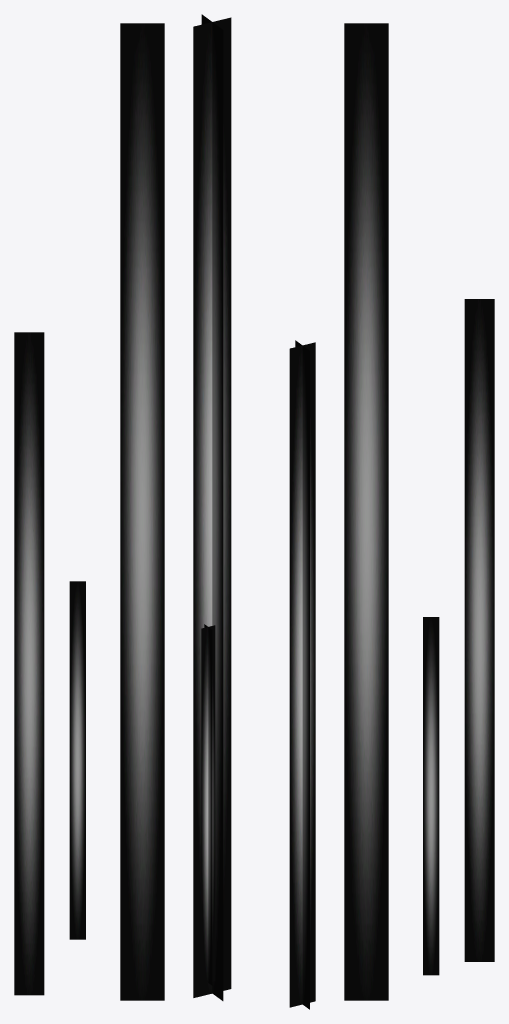
File: vfx_kurp_0210.dae
3 views of the same model, side by side, from view 1: azimuth 90°, elevation 25°; view 2: azimuth 210°, elevation 25°; view 3: azimuth 270°, elevation 25° (orthographic).
Visible parts, largest first — view 1: vfx_kurp_0210; view 2: vfx_kurp_0210; view 3: vfx_kurp_0210.
Boxes of the visible parts, box(x1,y1,x2,y2) form: vfx_kurp_0210: box(14, 23, 164, 1000); vfx_kurp_0210: box(193, 14, 315, 1009); vfx_kurp_0210: box(344, 23, 494, 1000).
Size of the model in its own units: 4.08 by 5.84 by 41.99.
Materials: 1 (1 with a texture image).
